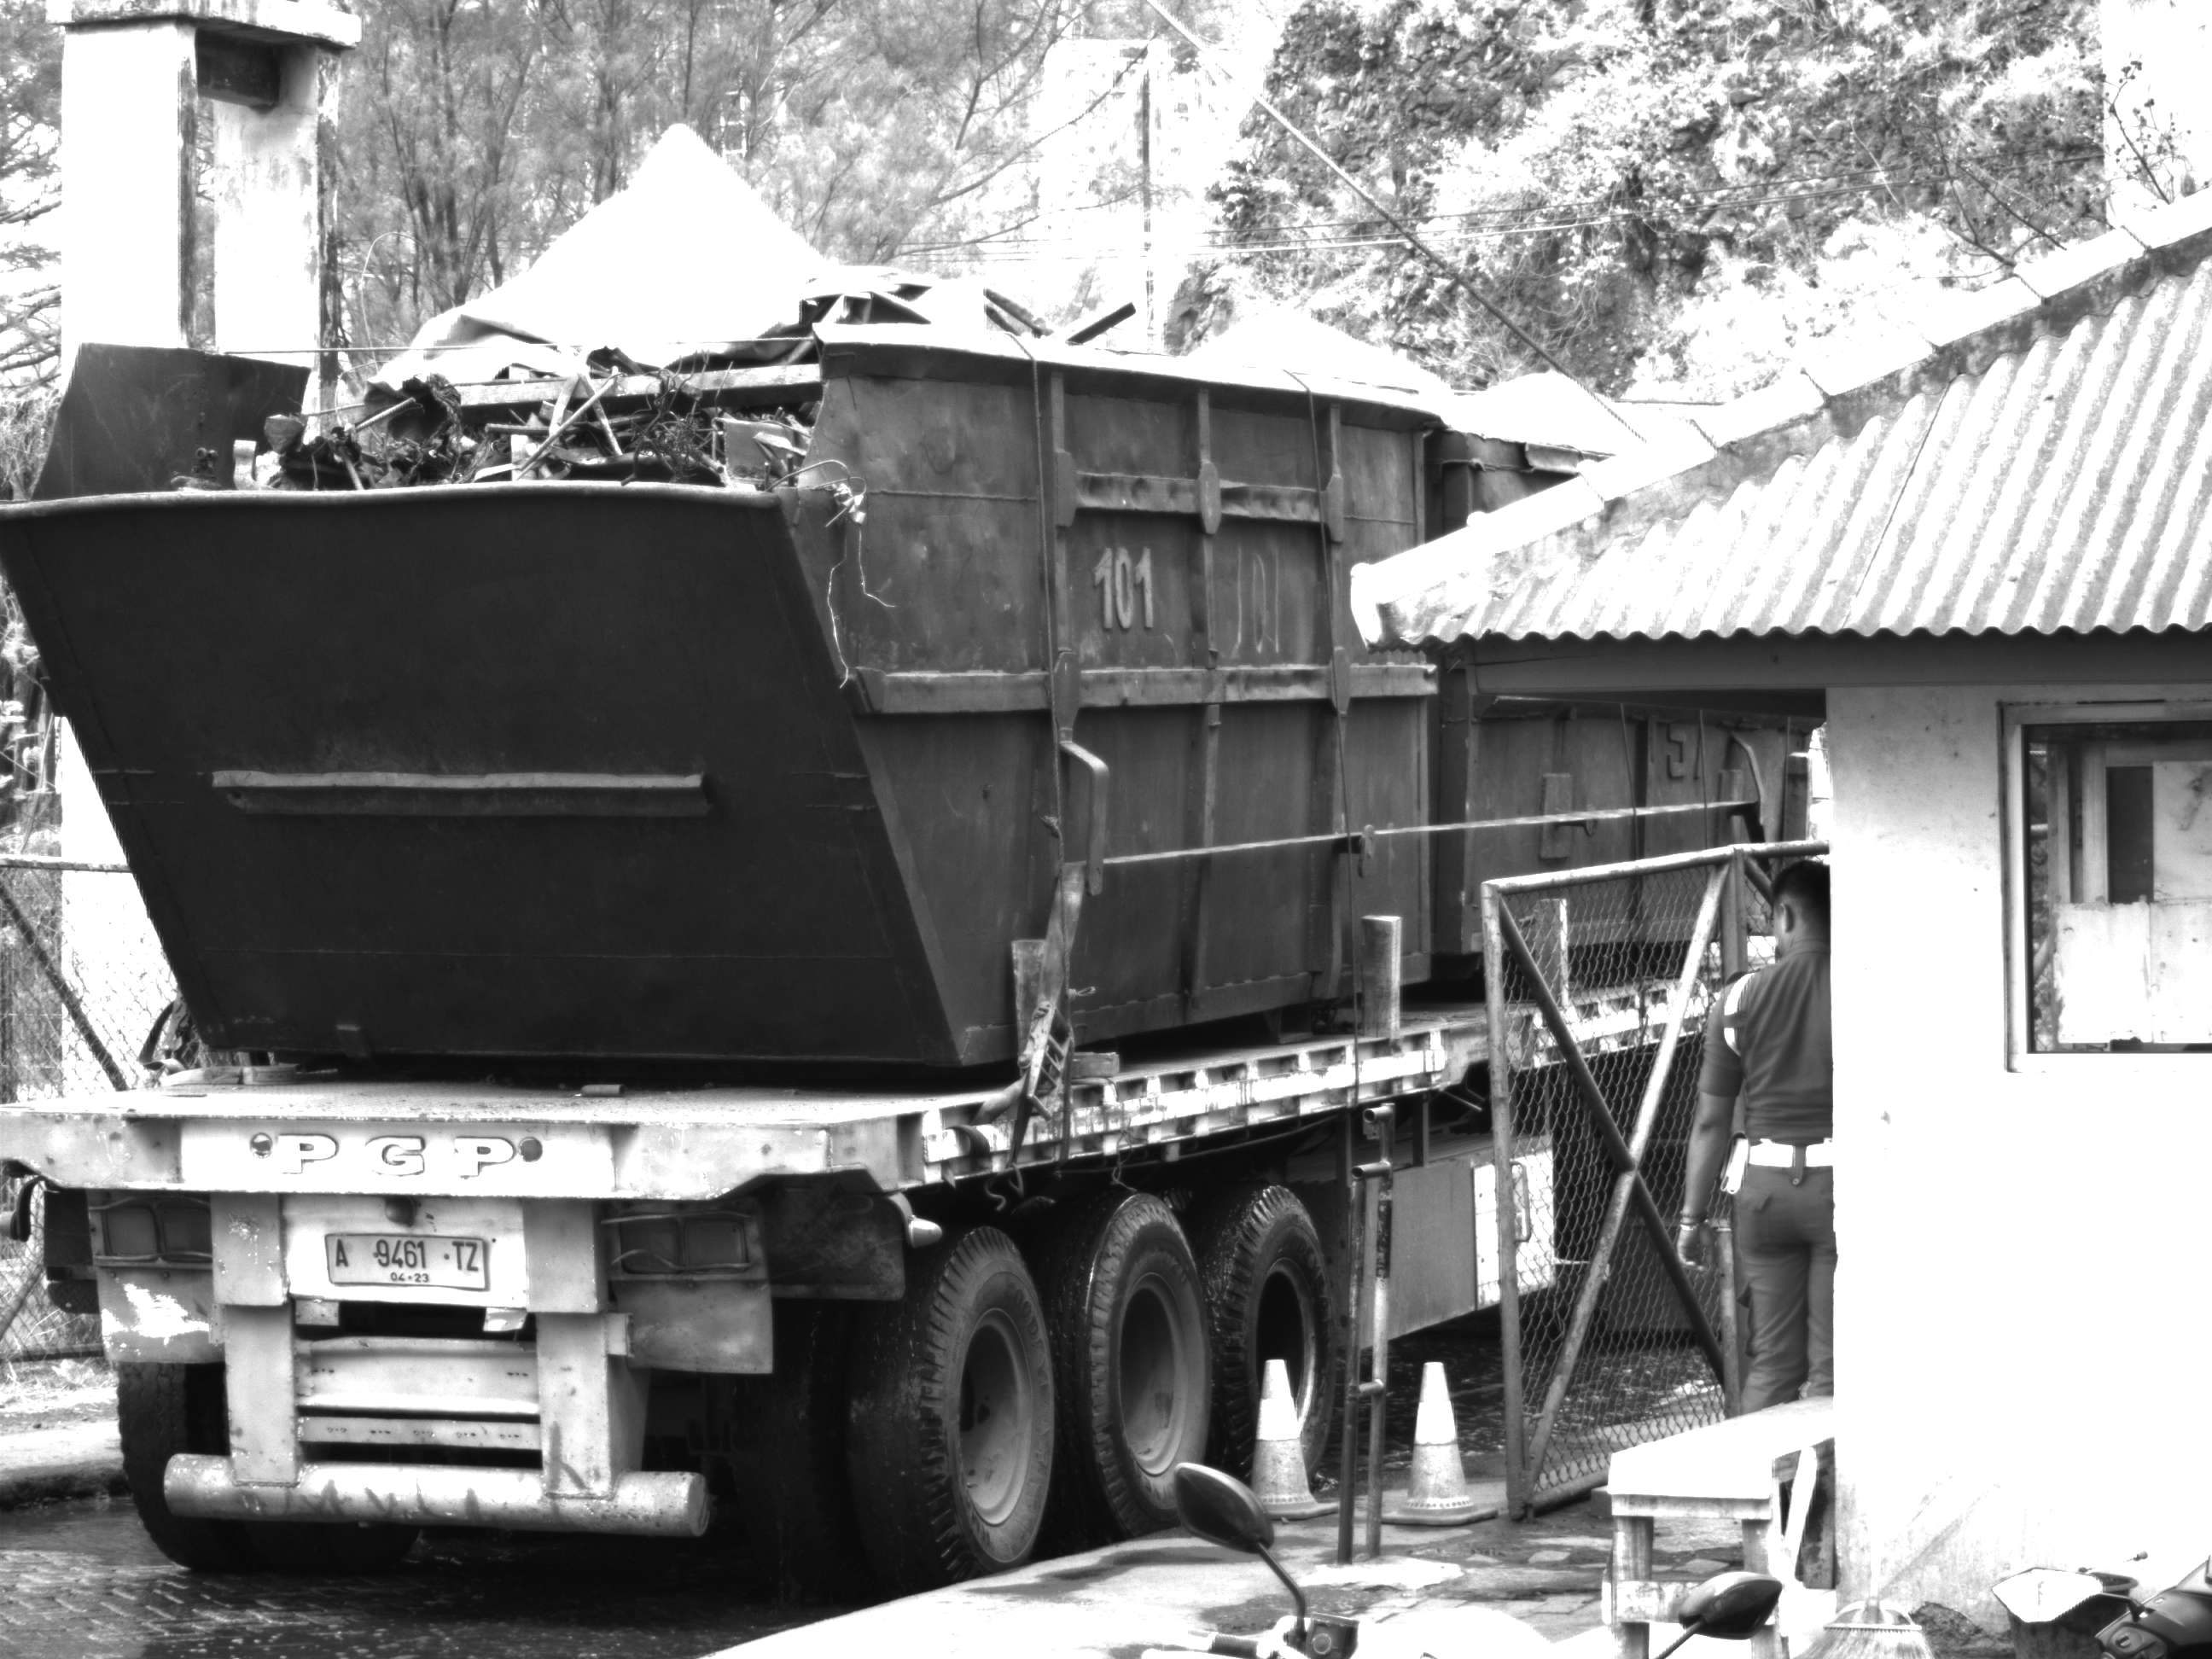day_truck_rear: (3, 1088, 1058, 1605)
plate: (326, 1229, 498, 1294)
